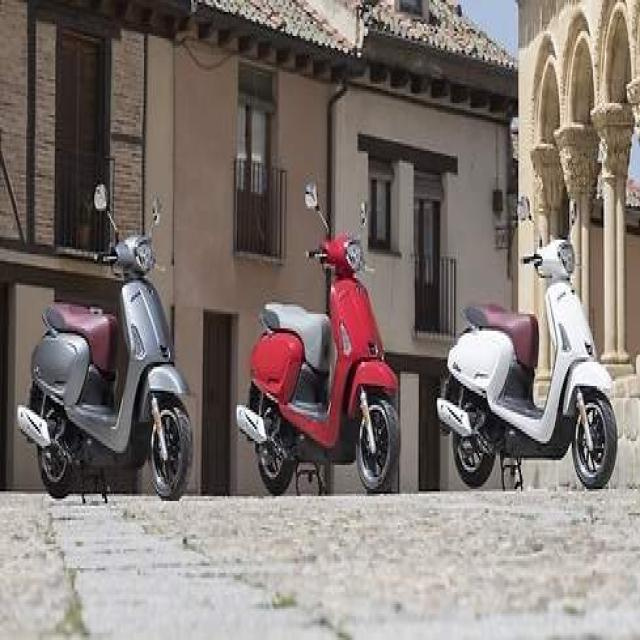Motorcycle: (17, 237, 192, 500), (440, 240, 619, 488), (237, 230, 400, 495)
